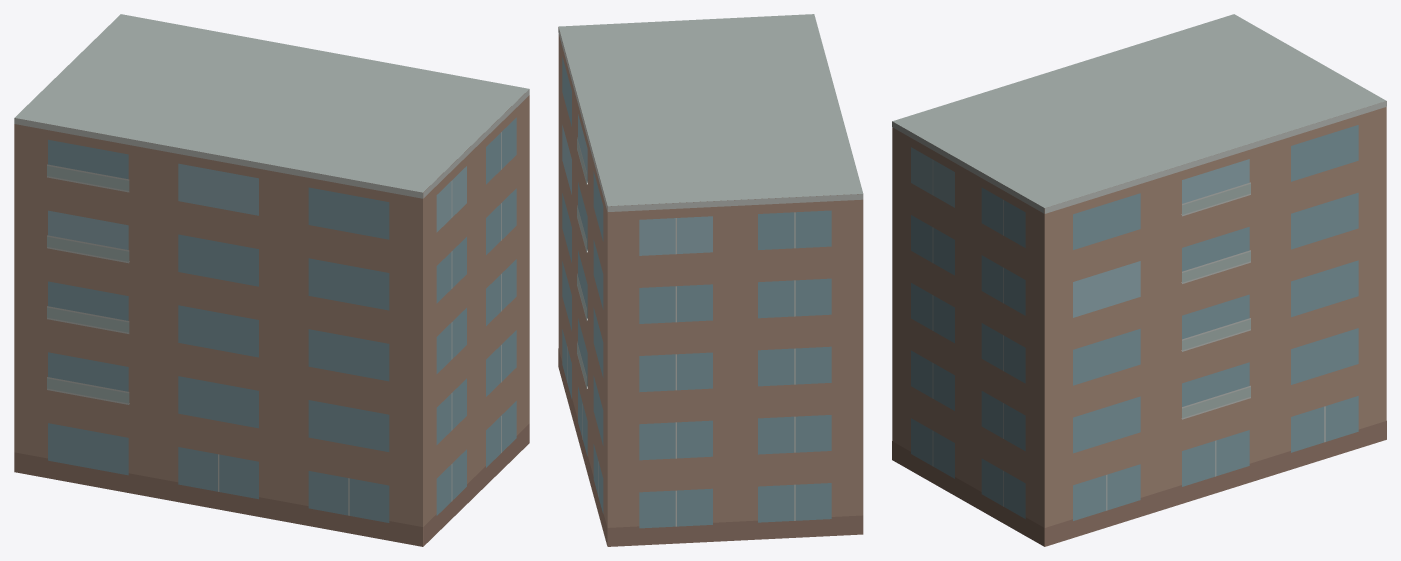
Rendered from residential-66641805-d00d-4d13-9776-b1453fe09a88.glb.
The picture shows the model from 3 angles, left to right: view 1: azimuth 30°, elevation 25°; view 2: azimuth 150°, elevation 25°; view 3: azimuth 270°, elevation 25°; orthographic projection. The views are drawn at different scales.
Parts seen in each view (by area): view 1: residential-66641805-d00d-4d13-9776-b1453fe09a88.tmp; view 2: residential-66641805-d00d-4d13-9776-b1453fe09a88.tmp; view 3: residential-66641805-d00d-4d13-9776-b1453fe09a88.tmp.
Boxes of the visible parts, x1,y1,x2,y2 form: residential-66641805-d00d-4d13-9776-b1453fe09a88.tmp: (14,14,529,546); residential-66641805-d00d-4d13-9776-b1453fe09a88.tmp: (558,14,863,546); residential-66641805-d00d-4d13-9776-b1453fe09a88.tmp: (892,14,1386,546).
Size of the model in its own units: 17.34 by 14.1 by 18.67.
